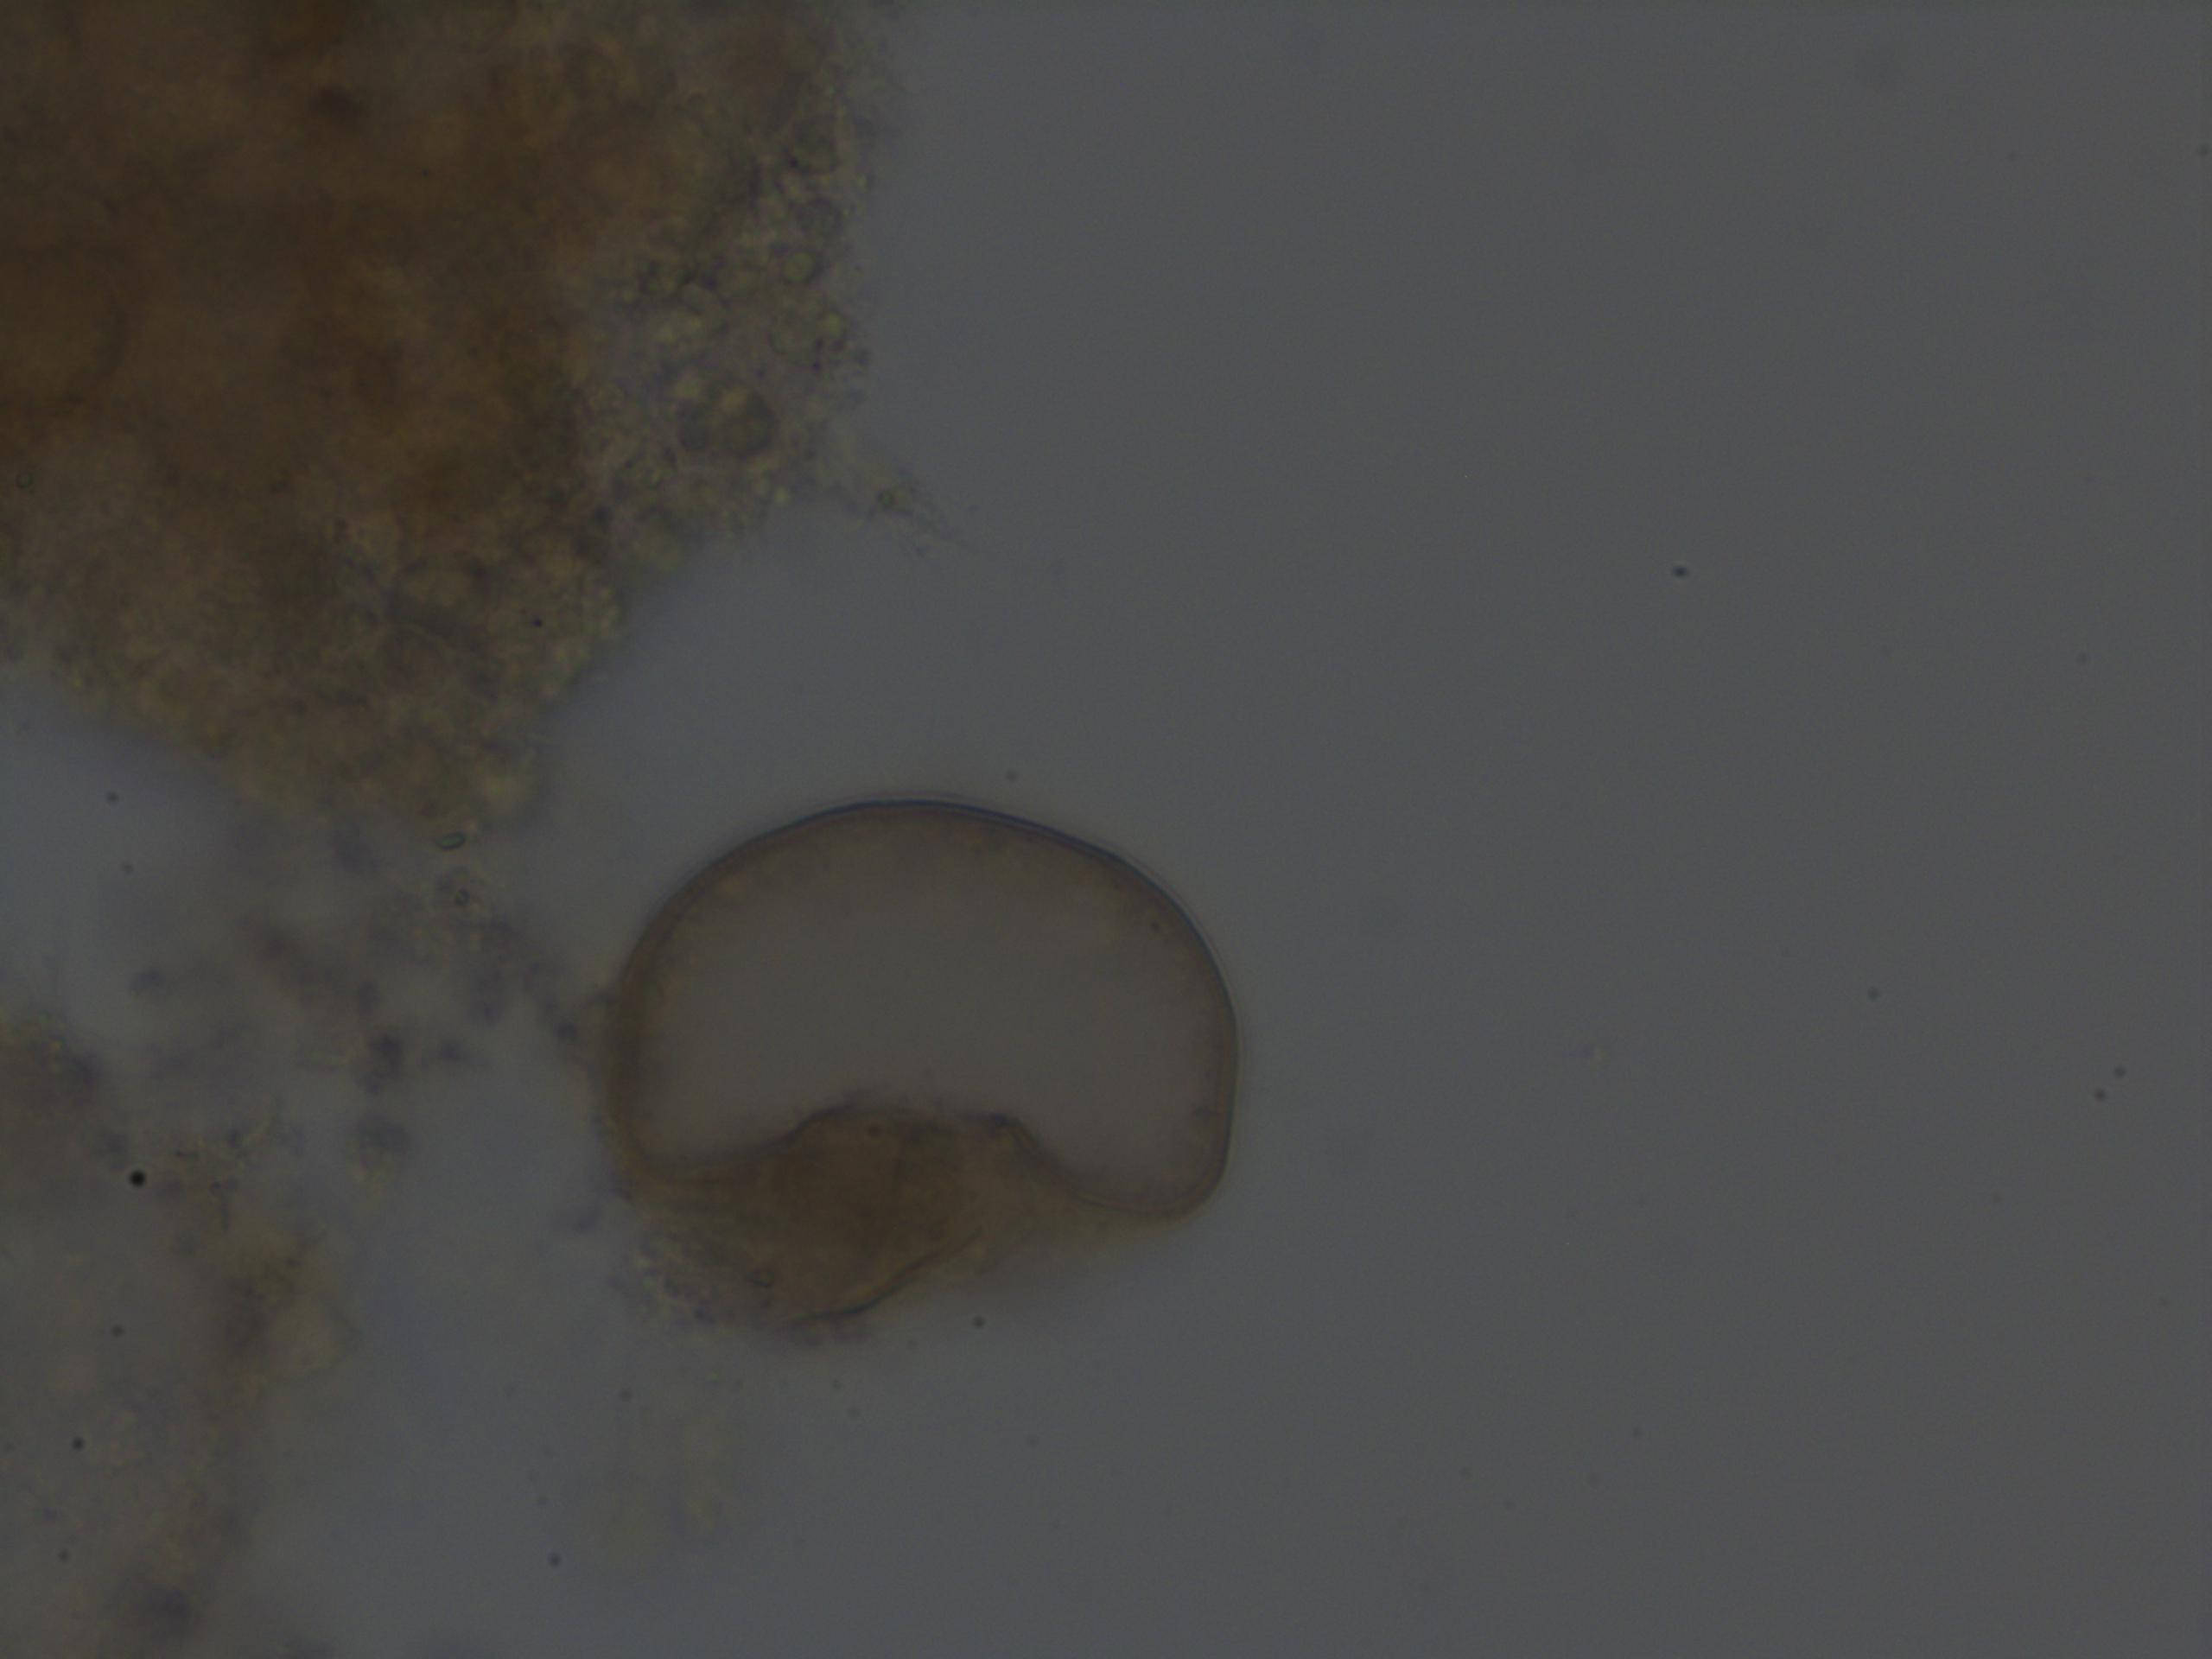protozoa: (573, 789, 1254, 1345)
